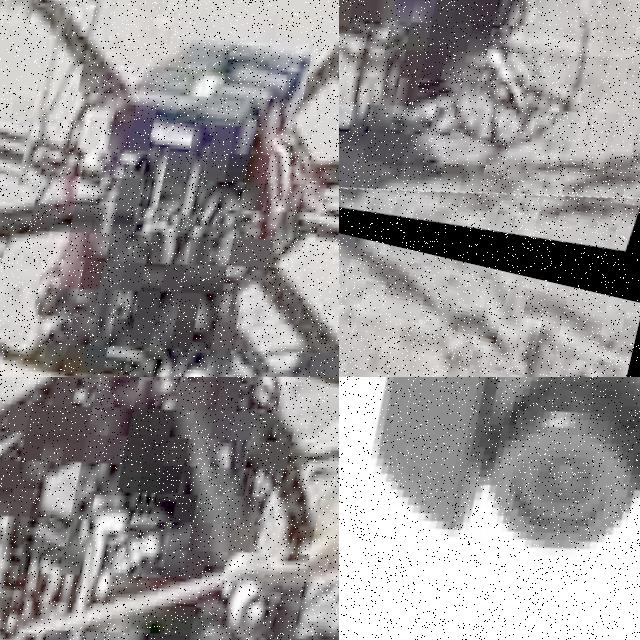drone: (0, 0, 339, 377), (339, 0, 640, 303), (0, 377, 339, 640), (339, 377, 640, 640)
